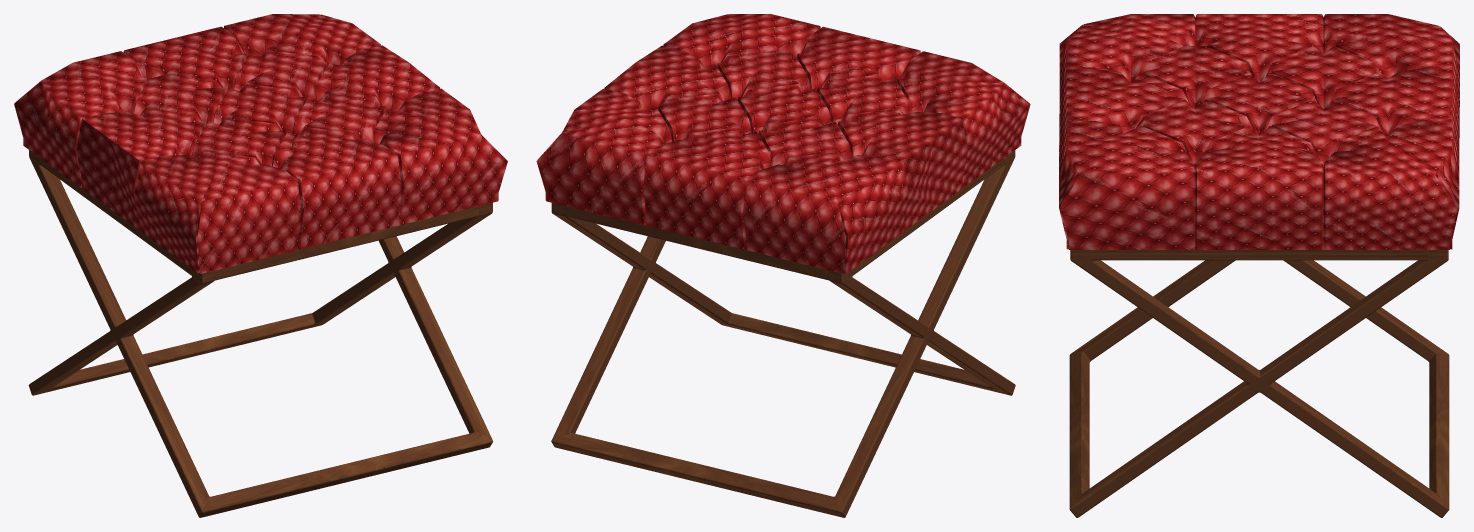
The model's file is redbrownstool.fbx.
The picture shows the model from 3 angles, left to right: view 1: azimuth 30°, elevation 25°; view 2: azimuth 150°, elevation 25°; view 3: azimuth 270°, elevation 25°; orthographic projection. The views are drawn at different scales.
Parts seen in each view (by area): view 1: Cloner_1, legs; view 2: Cloner_1, legs; view 3: Cloner_1, legs.
Boxes of the visible parts, bbox=[...] form: Cloner_1: bbox=[14, 14, 507, 273]; legs: bbox=[28, 150, 493, 517]; Cloner_1: bbox=[536, 14, 1030, 273]; legs: bbox=[551, 150, 1015, 517]; Cloner_1: bbox=[1059, 14, 1459, 249]; legs: bbox=[1069, 249, 1449, 517].
Bounding box in the file's own units: 46.81 × 46.24 × 47.67.
2 materials, 2 textured.
